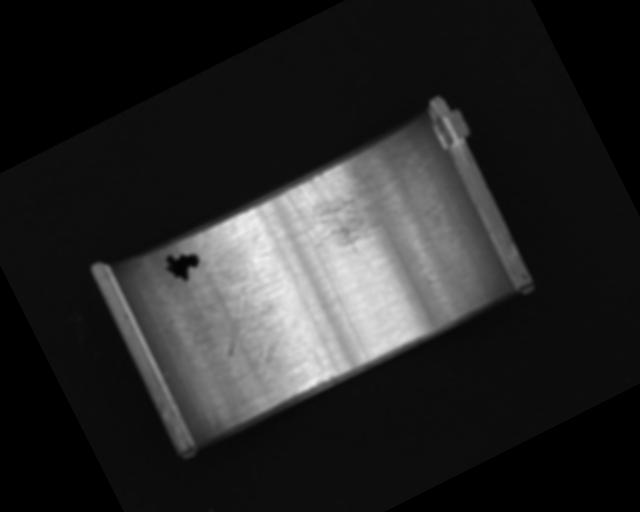blot: (159, 243, 207, 289)
bruise: (250, 341, 284, 376)
nick: (203, 286, 268, 357)
scratch: (281, 132, 437, 271)
